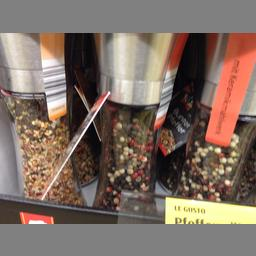spices: (94, 32, 186, 218), (0, 32, 87, 205), (170, 32, 252, 201)
